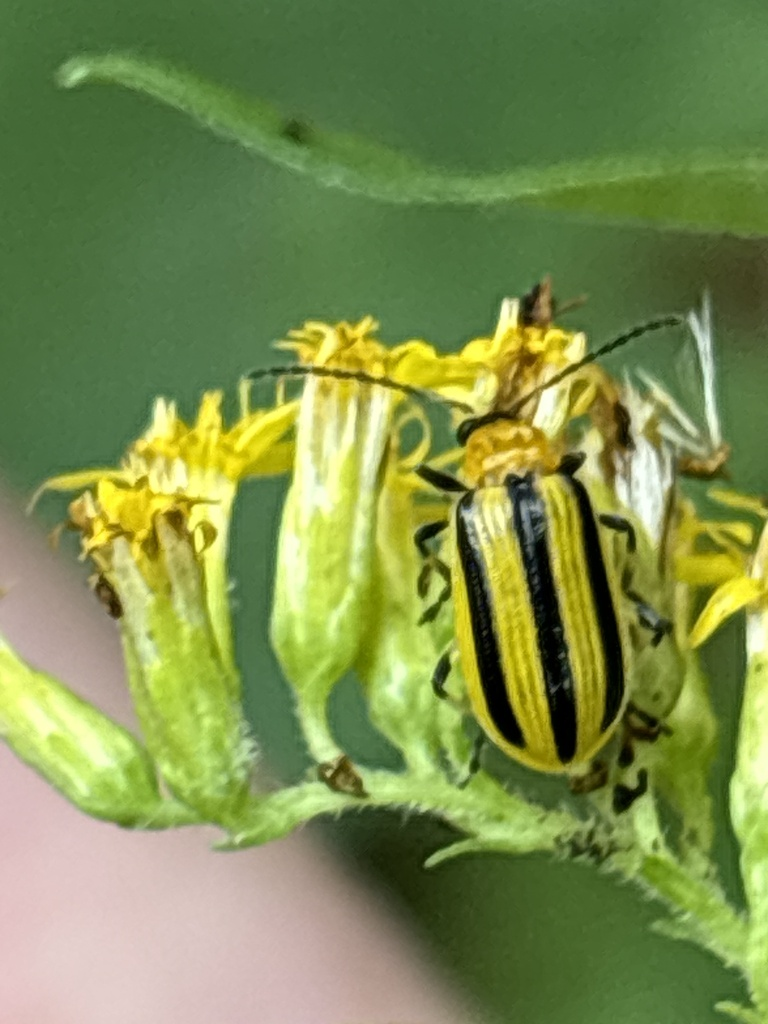potato_beetle: (153, 179, 768, 897)
